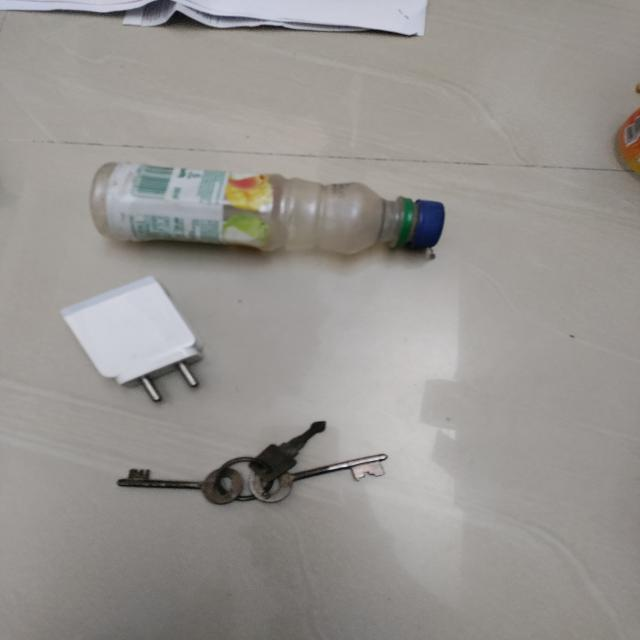metal: (120, 420, 387, 510)
paper: (0, 0, 439, 39)
plastic: (90, 159, 450, 259), (64, 274, 214, 400)
